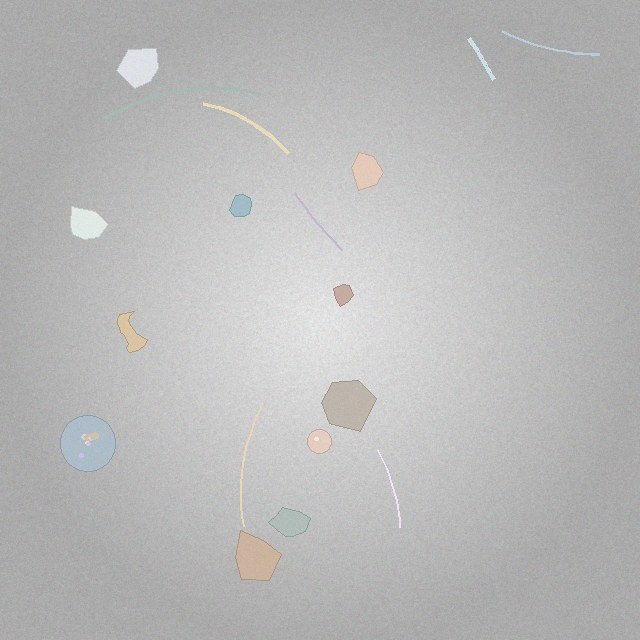fiber: (100, 84, 265, 124), (199, 99, 293, 158), (238, 401, 266, 530), (291, 189, 345, 253), (499, 28, 604, 59), (375, 448, 402, 530), (464, 34, 498, 84)
film: (117, 311, 147, 353)
foam: (60, 415, 116, 471)
fragment: (321, 380, 377, 431), (235, 530, 282, 581), (116, 48, 158, 88), (71, 206, 109, 240), (352, 152, 383, 190), (268, 508, 310, 536), (230, 194, 252, 217), (333, 285, 353, 306)
pellet: (307, 429, 331, 453)
